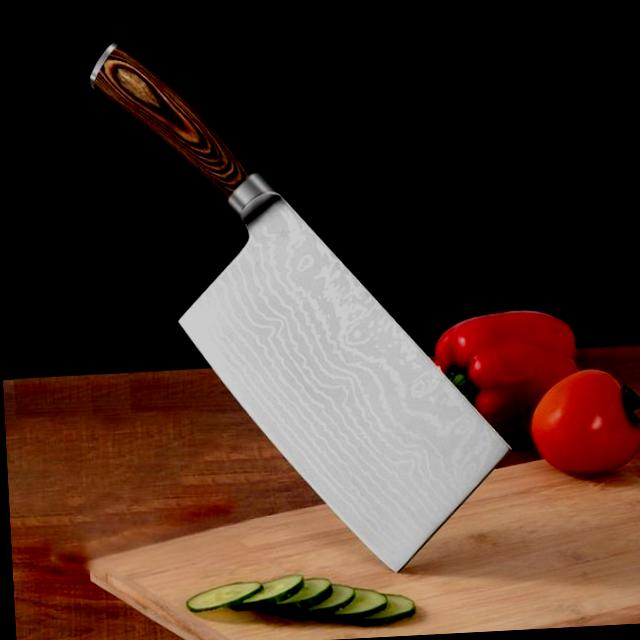cleaver: (89, 21, 518, 586)
